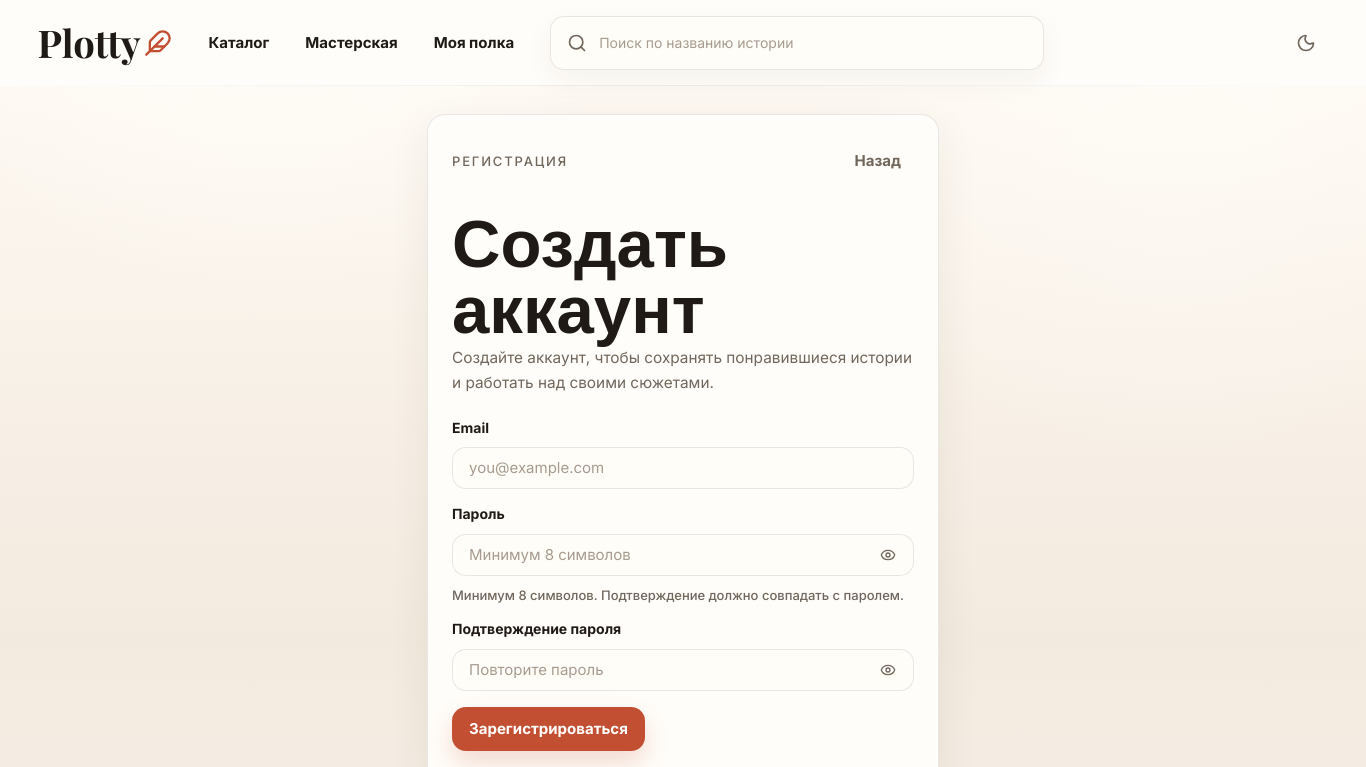
Test: AuthScreen › maps backend register error codes onto Russian field errors
Expected: the heading "Создать аккаунт" is shown, [452,194,728,350]
In the field labelled "Email": (683, 468) [452,447,914,489], type "not-an-email"
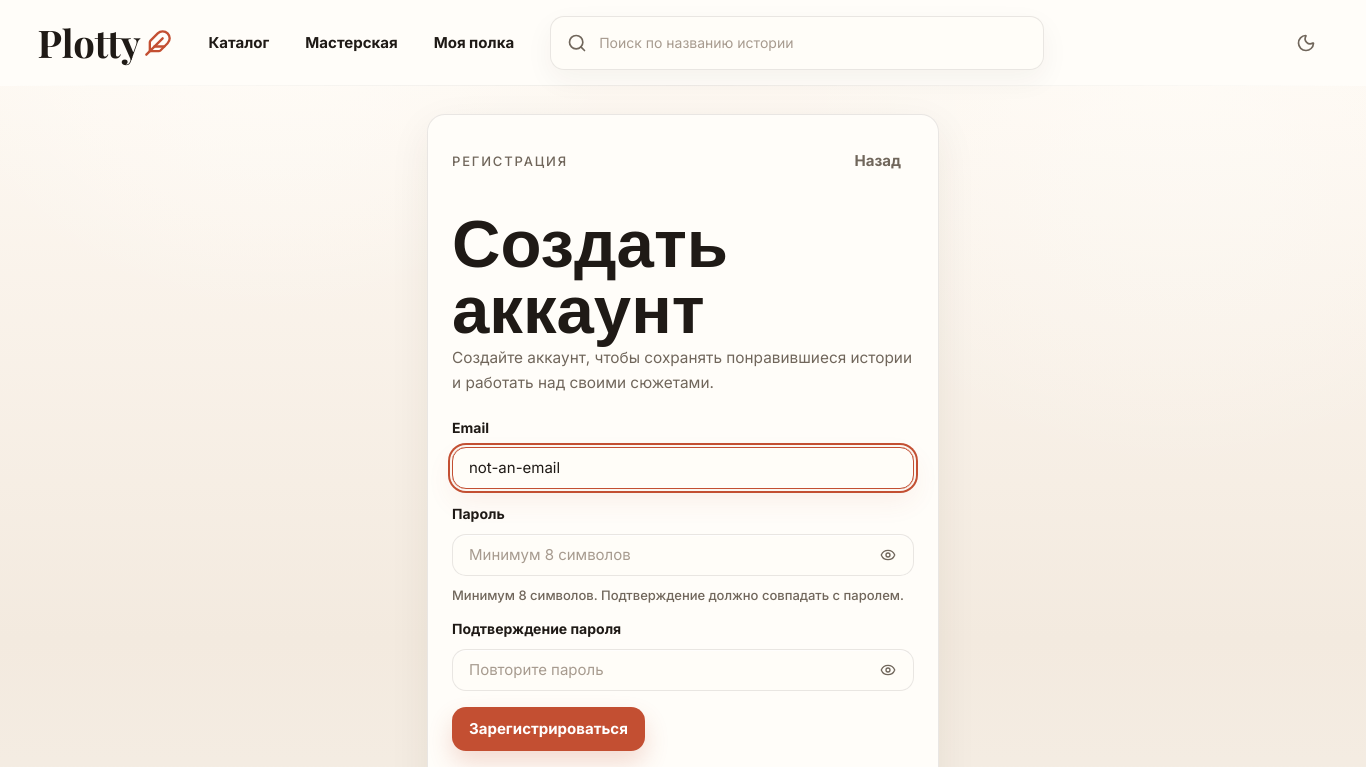
In the password field labelled "Пароль": (683, 555) [452,534,914,576], type "password123"
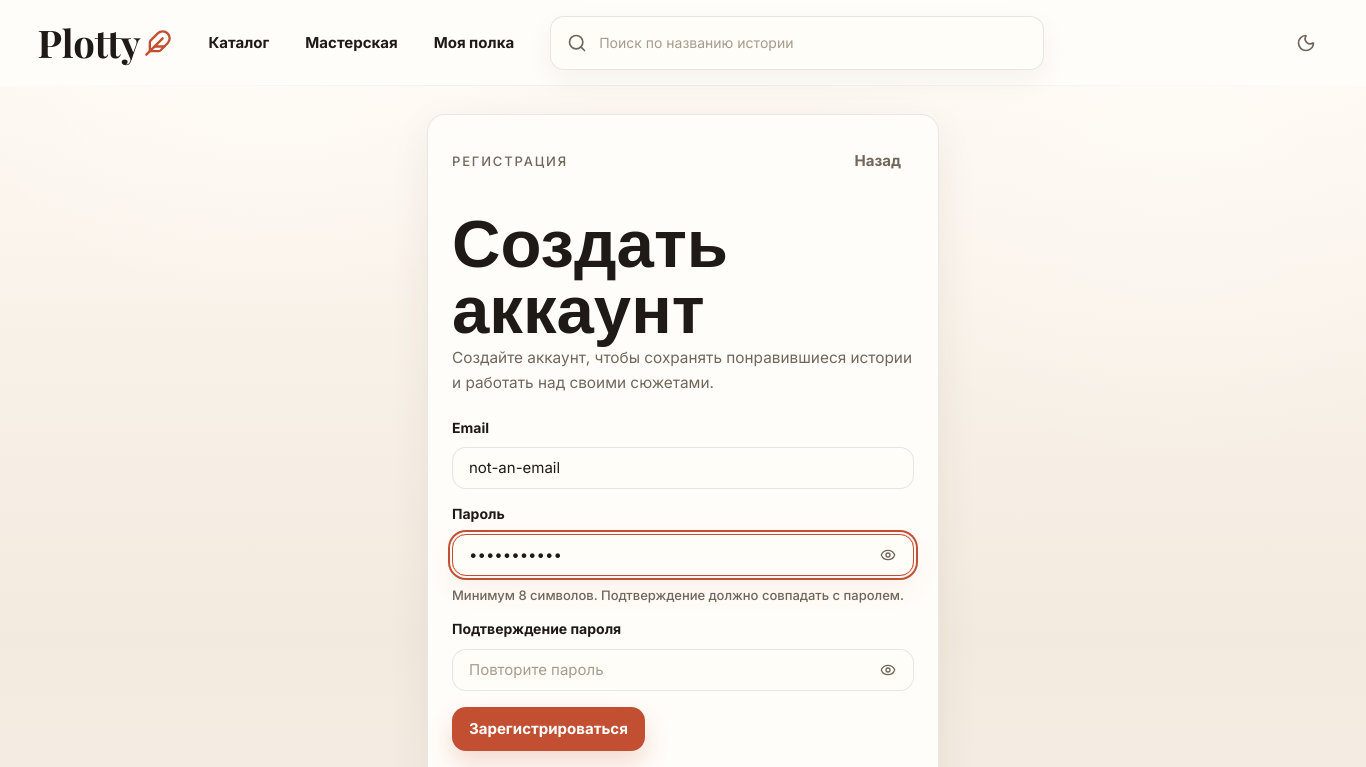
In the password field labelled "Подтверждение пароля": (683, 670) [452,649,914,691], type "password123"
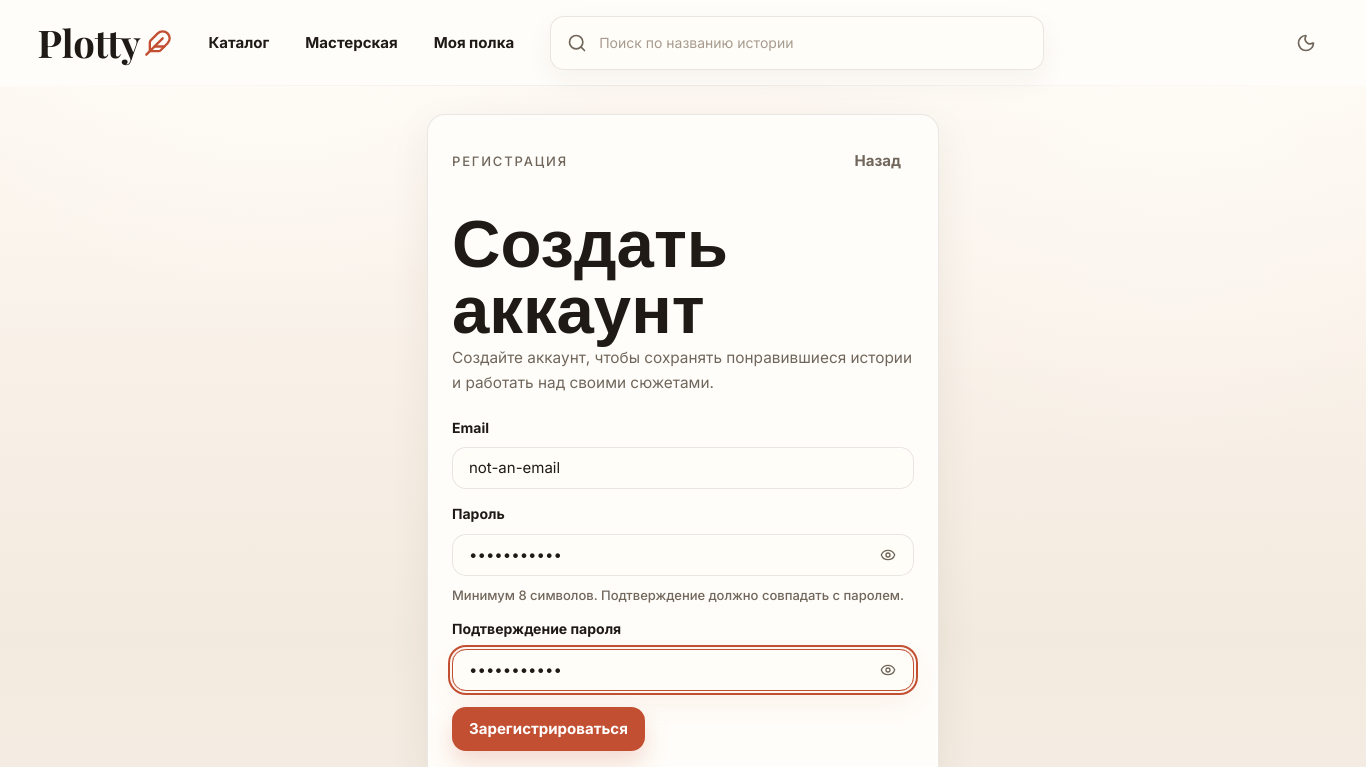
Click the button "Зарегистрироваться": (548, 729) [452,707,645,751]
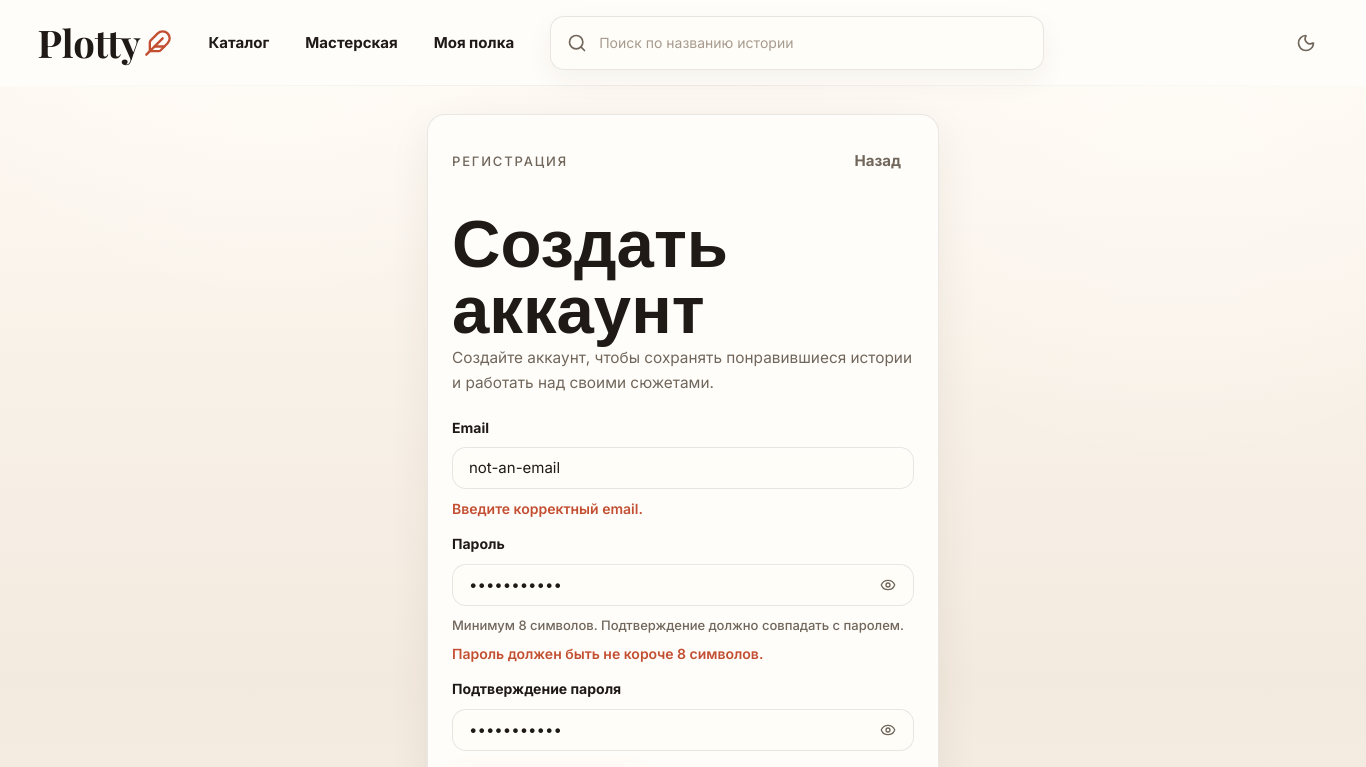
Expected: the text "Введите корректный email." is shown, [452,500,643,517]
Expected: the text "Пароль должен быть не короче 8 символов." is shown, [452,646,763,662]
